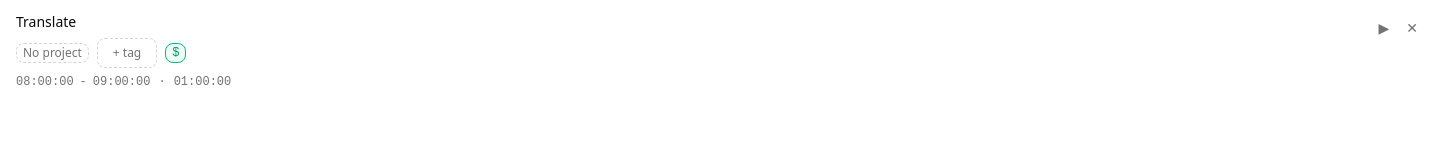
Test: TtcEntryRow › Escape cancels the edit without committing
Click the text "Translate" at (46, 22), box [16,12,76,31]
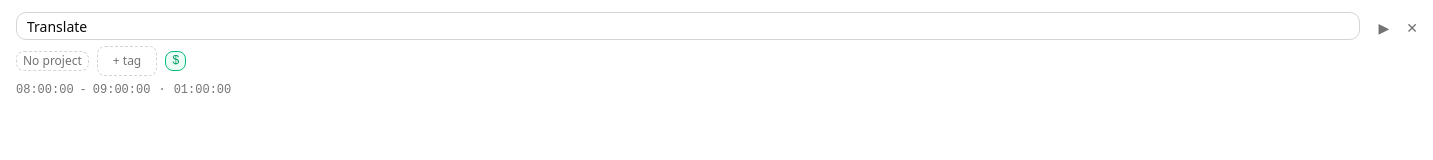
Replace the text in the field with placeholder "Description" with "Changed" at (688, 26), box [16,12,1360,40]
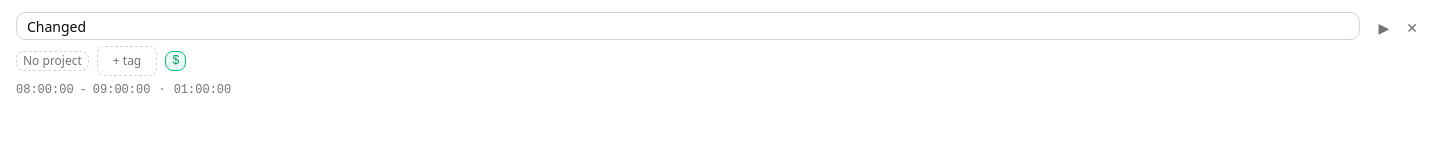
Press Escape in the field with placeholder "Description", box [16,12,1360,40]
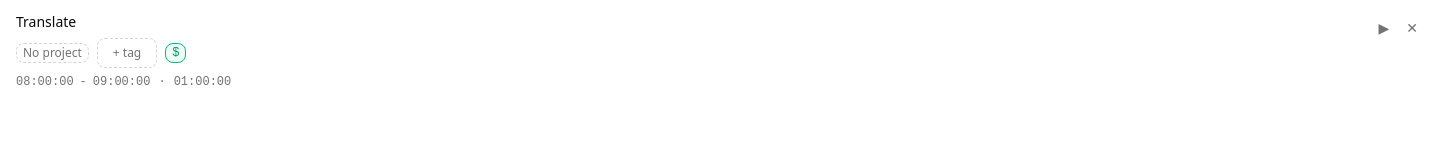
expect the text "Translate" is shown: met, box [16,12,76,31]
